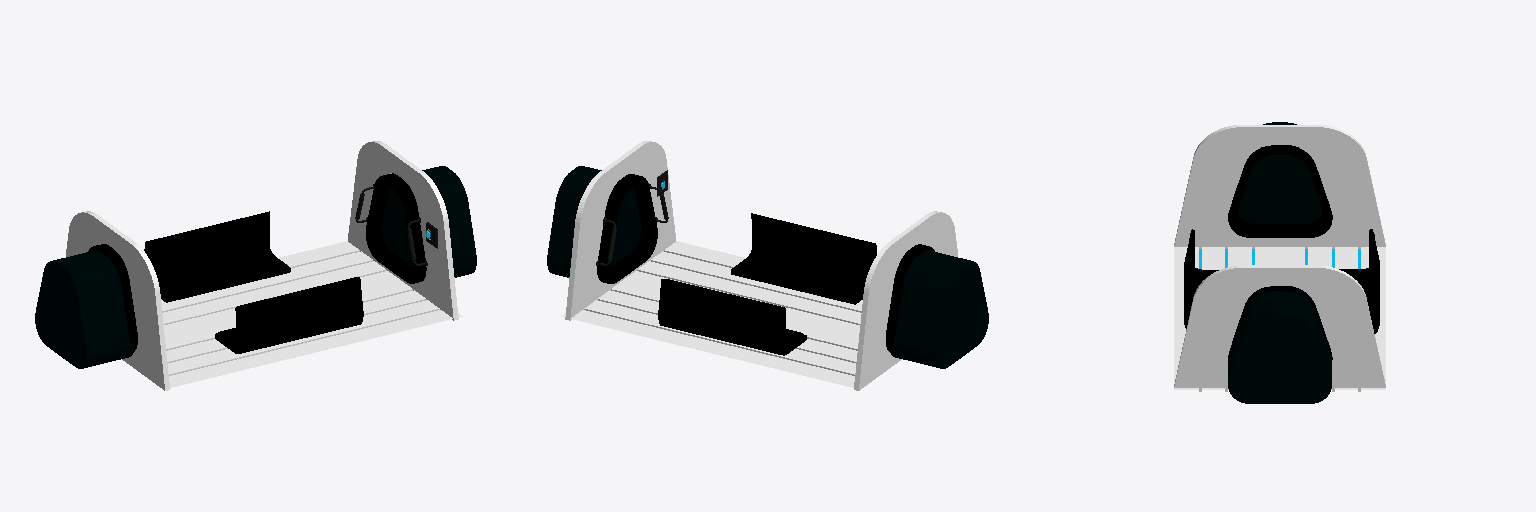
The model's file is NoSide.obj.
The picture shows the model from 3 angles: view 1: azimuth 30°, elevation 25°; view 2: azimuth 150°, elevation 25°; view 3: azimuth 270°, elevation 25°; orthographic projection.
Visible parts, largest first — view 1: DoorFBXASC032SealFBXASC0323 polySurface3, DoorFBXASC032SealFBXASC0323 polySurface12, DoorFBXASC032SealFBXASC0323 polySurface6, DoorFBXASC032SealFBXASC0323 polySurface15, DoorFBXASC032SealFBXASC0323 polySurface7, DoorFBXASC032SealFBXASC0323 polySurface14, pasted__polySurface12 pasted__DoorFBXASC032SealFBXASC0323 group, DoorFBXASC032SealFBXASC0323 polySurface13, polySurface1 DoorFBXASC032SealFBXASC0323; view 2: DoorFBXASC032SealFBXASC0323 polySurface3, DoorFBXASC032SealFBXASC0323 polySurface12, DoorFBXASC032SealFBXASC0323 polySurface7, DoorFBXASC032SealFBXASC0323 polySurface15, DoorFBXASC032SealFBXASC0323 polySurface6, DoorFBXASC032SealFBXASC0323 polySurface14, pasted__polySurface12 pasted__DoorFBXASC032SealFBXASC0323 group, DoorFBXASC032SealFBXASC0323 polySurface13, polySurface1 DoorFBXASC032SealFBXASC0323; view 3: DoorFBXASC032SealFBXASC0323 polySurface14, DoorFBXASC032SealFBXASC0323 polySurface15, pasted__polySurface12 pasted__DoorFBXASC032SealFBXASC0323 group, DoorFBXASC032SealFBXASC0323 polySurface3, DoorFBXASC032SealFBXASC0323 polySurface12, polySurface1 DoorFBXASC032SealFBXASC0323, DoorFBXASC032SealFBXASC0323 polySurface6, DoorFBXASC032SealFBXASC0323 polySurface7, DoorFBXASC032SealFBXASC0323 polySurface13.
Part boxes in pixels (bbox=[...]): DoorFBXASC032SealFBXASC0323 polySurface3: bbox=[161, 241, 462, 387]; DoorFBXASC032SealFBXASC0323 polySurface12: bbox=[35, 250, 134, 368]; DoorFBXASC032SealFBXASC0323 polySurface6: bbox=[144, 211, 290, 302]; DoorFBXASC032SealFBXASC0323 polySurface15: bbox=[348, 141, 458, 320]; DoorFBXASC032SealFBXASC0323 polySurface7: bbox=[215, 277, 363, 353]; DoorFBXASC032SealFBXASC0323 polySurface14: bbox=[66, 211, 169, 390]; pasted__polySurface12 pasted__DoorFBXASC032SealFBXASC0323 group: bbox=[382, 166, 476, 277]; DoorFBXASC032SealFBXASC0323 polySurface13: bbox=[366, 173, 426, 283]; polySurface1 DoorFBXASC032SealFBXASC0323: bbox=[88, 244, 137, 351]; DoorFBXASC032SealFBXASC0323 polySurface3: bbox=[561, 241, 862, 387]; DoorFBXASC032SealFBXASC0323 polySurface12: bbox=[890, 250, 988, 368]; DoorFBXASC032SealFBXASC0323 polySurface7: bbox=[731, 213, 876, 304]; DoorFBXASC032SealFBXASC0323 polySurface15: bbox=[565, 141, 675, 320]; DoorFBXASC032SealFBXASC0323 polySurface6: bbox=[658, 279, 806, 355]; DoorFBXASC032SealFBXASC0323 polySurface14: bbox=[854, 211, 957, 390]; pasted__polySurface12 pasted__DoorFBXASC032SealFBXASC0323 group: bbox=[547, 166, 641, 277]; DoorFBXASC032SealFBXASC0323 polySurface13: bbox=[597, 174, 657, 283]; polySurface1 DoorFBXASC032SealFBXASC0323: bbox=[886, 244, 934, 351]; DoorFBXASC032SealFBXASC0323 polySurface14: bbox=[1174, 125, 1385, 248]; DoorFBXASC032SealFBXASC0323 polySurface15: bbox=[1174, 265, 1385, 389]; pasted__polySurface12 pasted__DoorFBXASC032SealFBXASC0323 group: bbox=[1228, 291, 1331, 403]; DoorFBXASC032SealFBXASC0323 polySurface3: bbox=[1174, 247, 1385, 391]; DoorFBXASC032SealFBXASC0323 polySurface12: bbox=[1238, 122, 1321, 223]; polySurface1 DoorFBXASC032SealFBXASC0323: bbox=[1228, 145, 1332, 237]; DoorFBXASC032SealFBXASC0323 polySurface6: bbox=[1339, 229, 1379, 333]; DoorFBXASC032SealFBXASC0323 polySurface7: bbox=[1184, 229, 1218, 328]; DoorFBXASC032SealFBXASC0323 polySurface13: bbox=[1228, 286, 1332, 359].
Bounding box in the file's own units: 14.49 × 4.34 × 6.85.